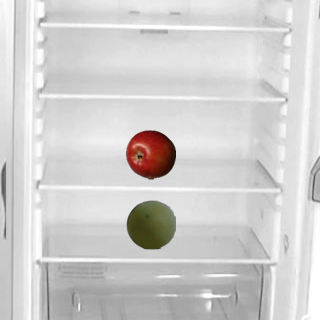Apple Braeburn: (125, 129, 175, 179)
Grape White 4: (125, 199, 175, 249)
